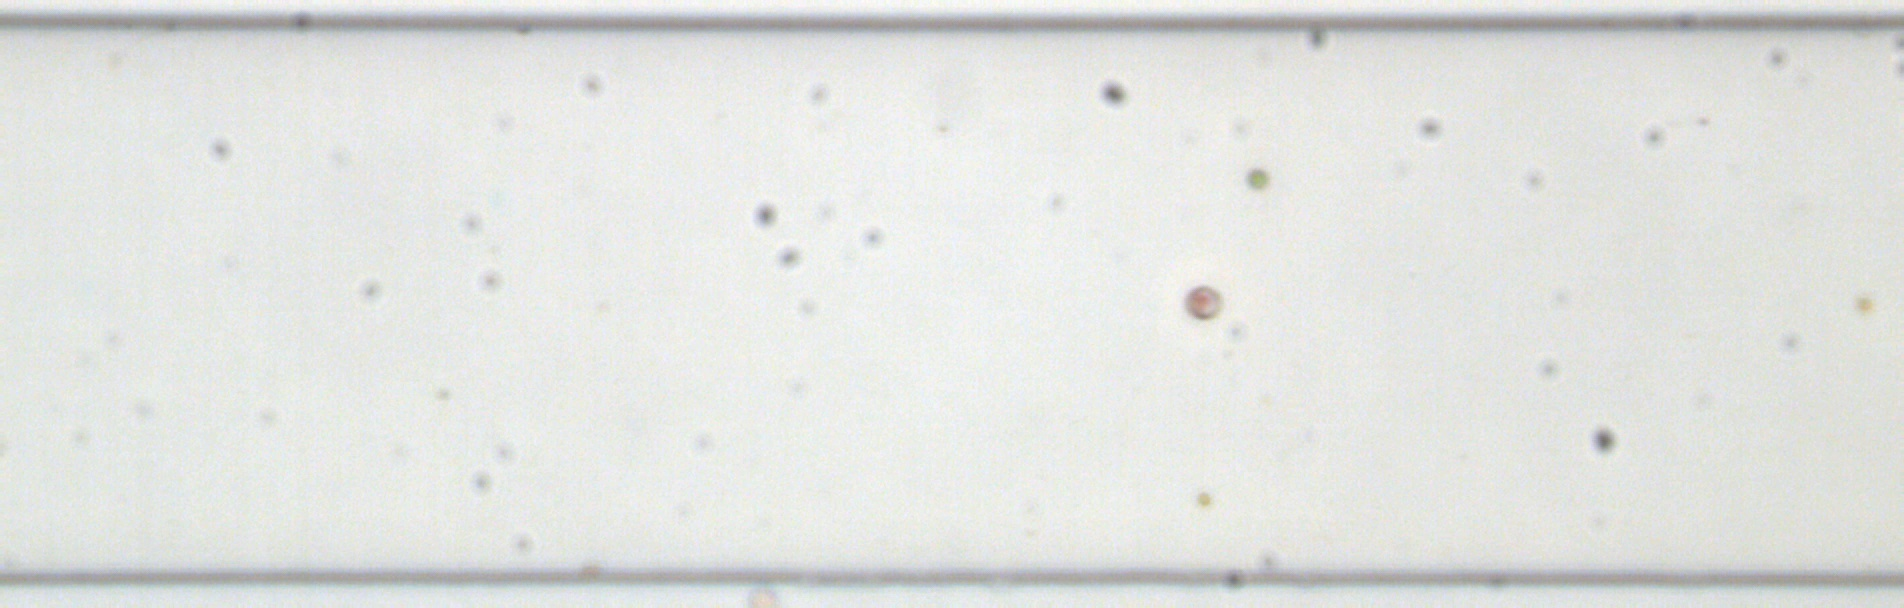Chlorella: (1245, 167, 1269, 191), (1855, 294, 1874, 314), (1195, 488, 1211, 506)
Porphyridium: (1181, 284, 1223, 322)
